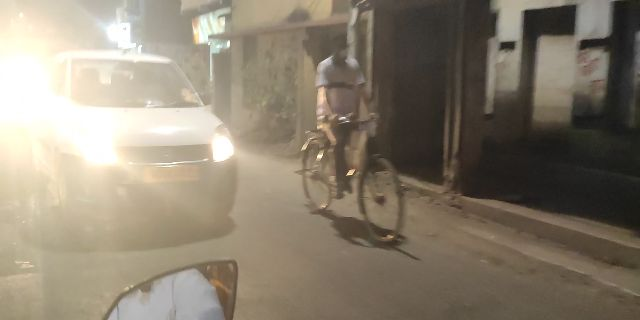Car: (43, 47, 248, 233)
Cycle: (293, 30, 414, 254)
